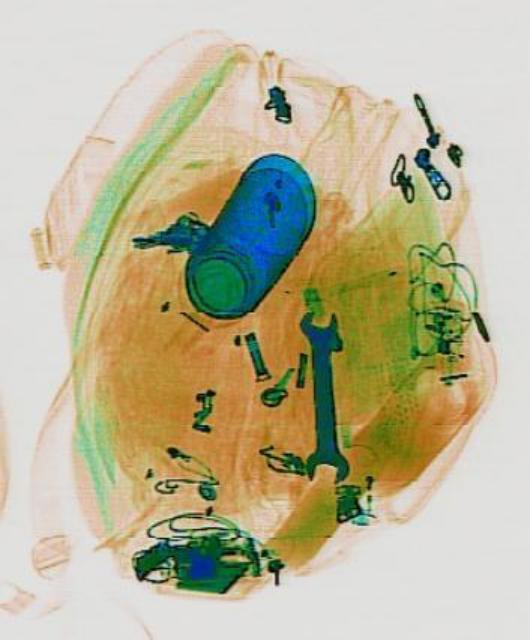Wrench: (294, 309, 346, 481)
